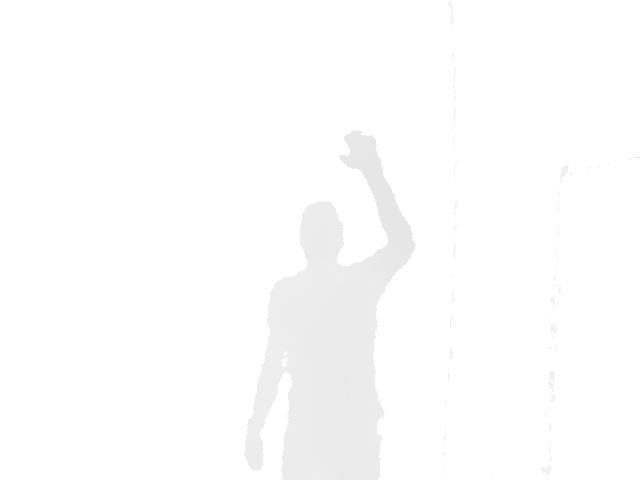hand: (337, 129, 385, 171)
head: (299, 203, 345, 276)
person: (242, 129, 417, 480)
